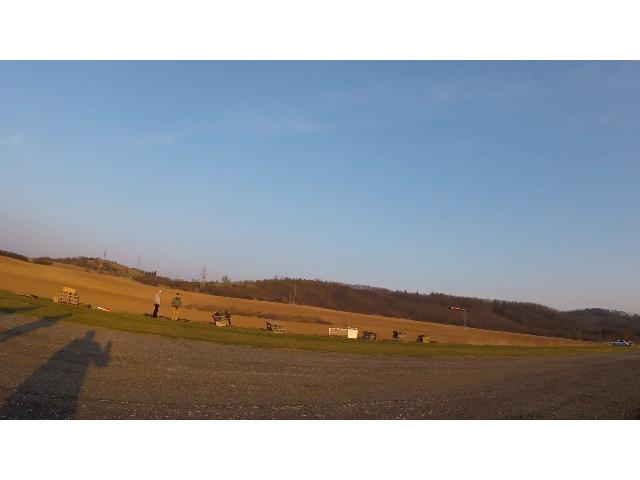Anti-Drone: (449, 307, 469, 311)
